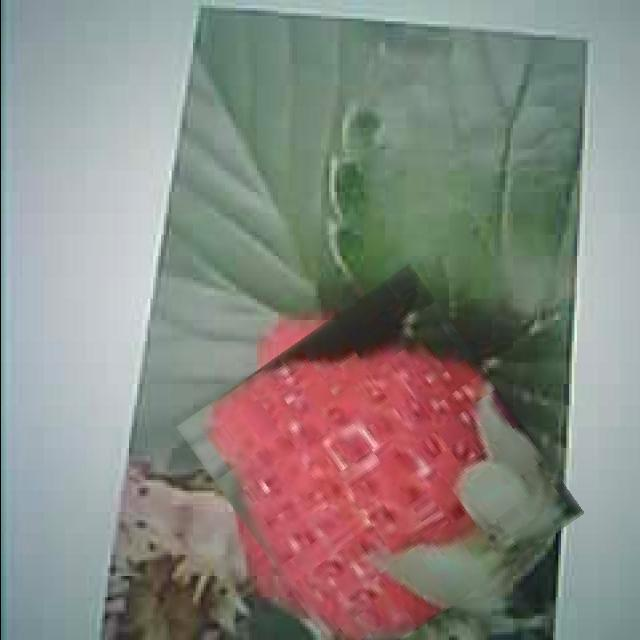strawberry: (206, 290, 552, 640)
